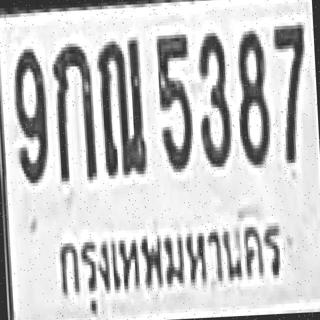A01: (51, 39, 95, 182)
A19: (95, 34, 146, 176)
N03: (194, 29, 230, 165)
N05: (154, 31, 193, 170)
N07: (272, 22, 308, 160)
N08: (233, 27, 269, 162)
N09: (12, 45, 50, 184)
